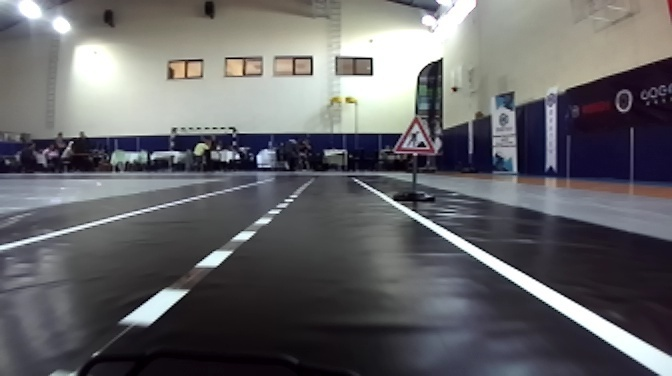yol_yapimi: (390, 115, 434, 156)
